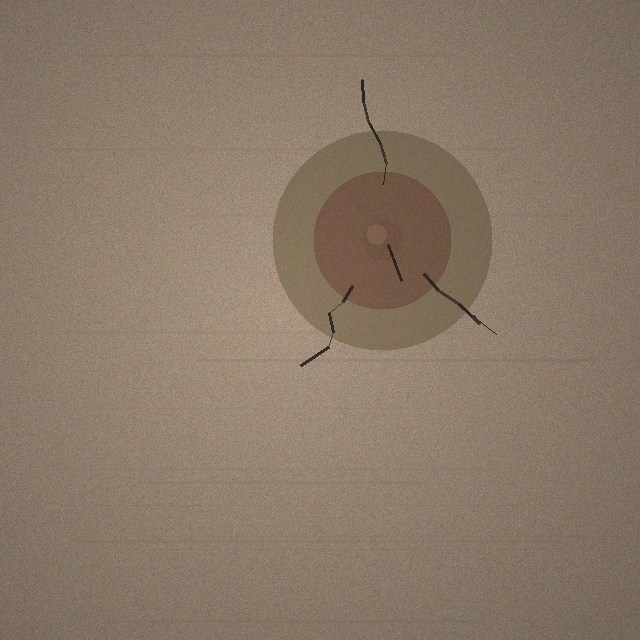crack: (272, 130, 492, 350)
